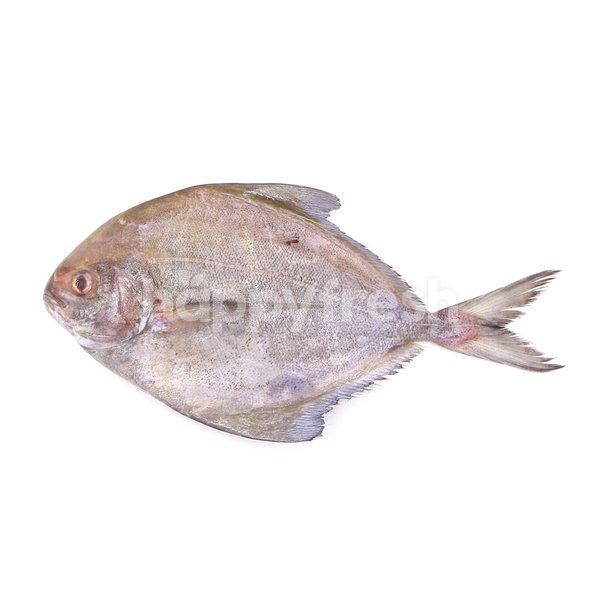Ikan Bawal: (33, 180, 573, 444)
